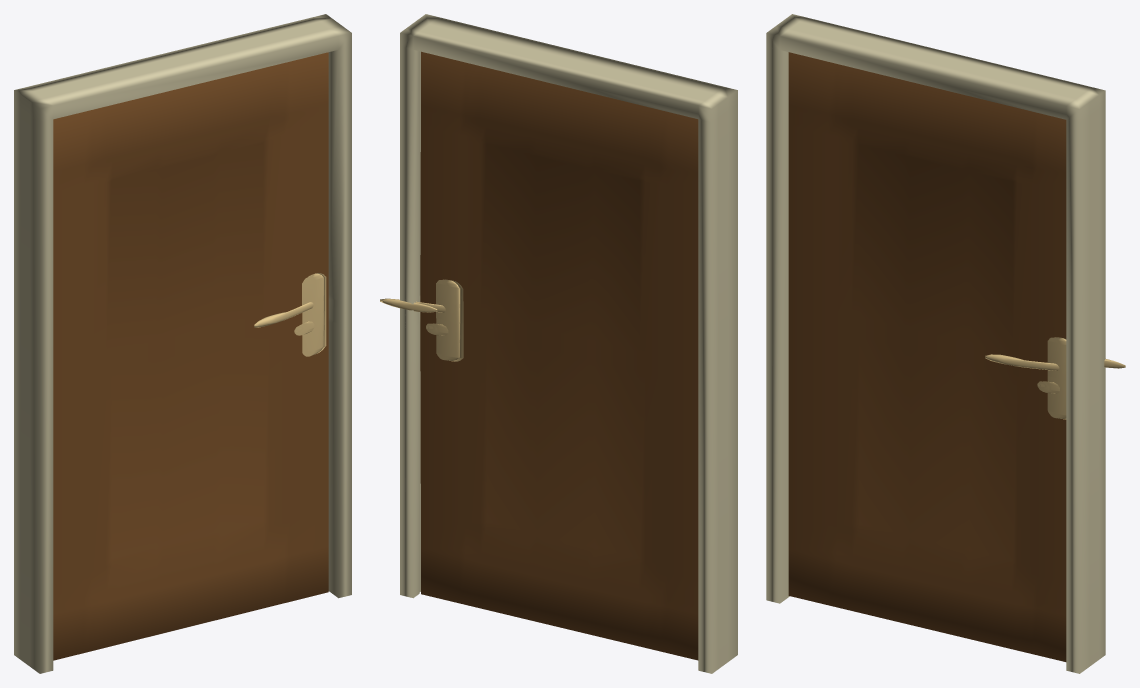
The model's file is Door.gltf.
3 views of the same model, side by side, from view 1: azimuth 30°, elevation 25°; view 2: azimuth 150°, elevation 25°; view 3: azimuth 330°, elevation 25° (orthographic).
Parts seen in each view (by area): view 1: DoorBoddy, OutBoddy, Locker.001; view 2: DoorBoddy, OutBoddy, Locker; view 3: DoorBoddy, OutBoddy, Locker.001.
Part boxes in pixels (box(x1,y1,x2,y2)): DoorBoddy: box(53, 52, 328, 660); OutBoddy: box(14, 14, 351, 673); Locker.001: box(254, 273, 326, 356); DoorBoddy: box(420, 51, 698, 660); OutBoddy: box(400, 14, 737, 673); Locker: box(380, 279, 463, 361); DoorBoddy: box(788, 52, 1066, 661); OutBoddy: box(766, 14, 1105, 673); Locker.001: box(985, 337, 1066, 419).
Bounding box in the file's own units: 7.61 × 12.42 × 1.09.
